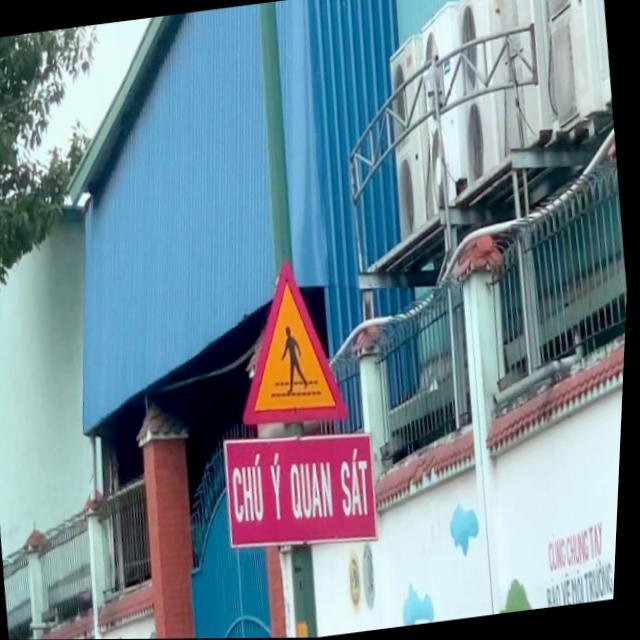Nguoi di bo cat ngang: (221, 245, 365, 442)
